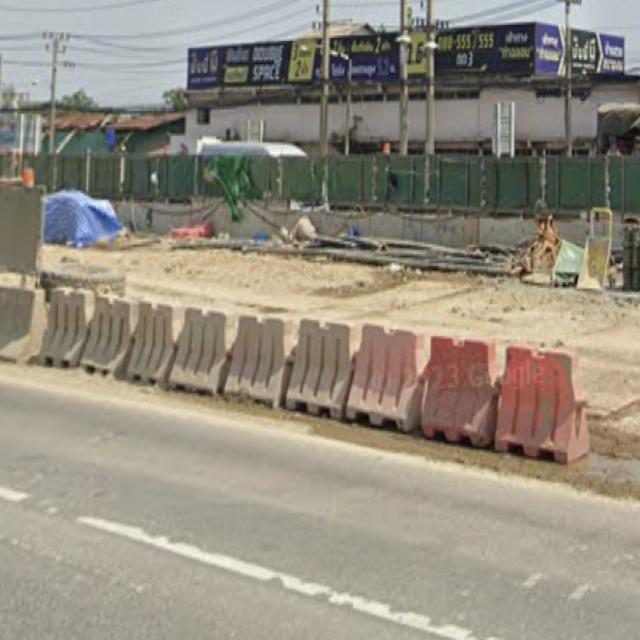fallen_object: (405, 294, 588, 459), (279, 296, 420, 440), (153, 297, 283, 412), (70, 279, 182, 397), (0, 265, 85, 360)
